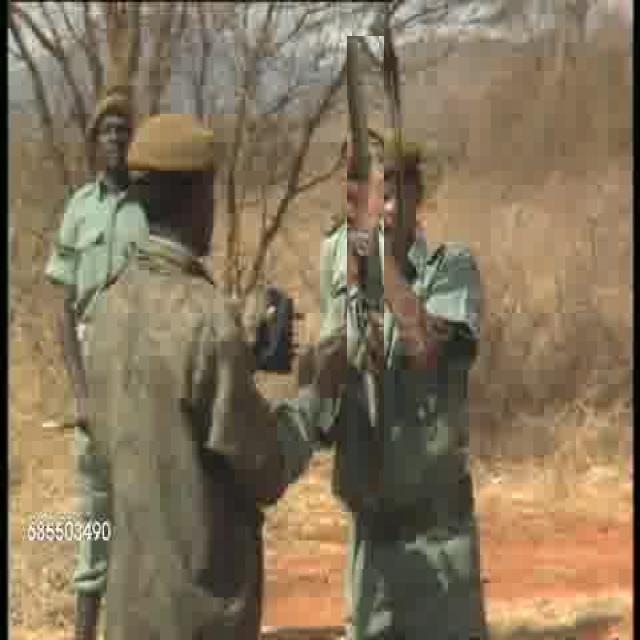poacher: (316, 115, 479, 572), (125, 122, 279, 528), (73, 88, 131, 212)
weapon: (347, 36, 384, 492)
